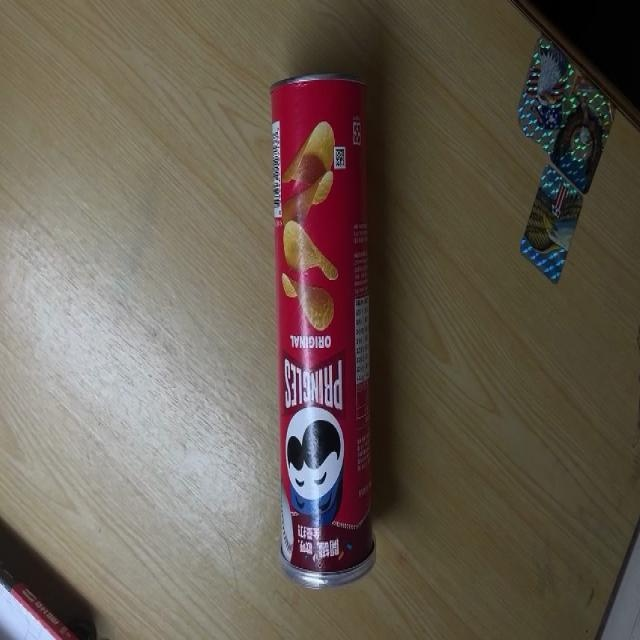Pringles: (270, 74, 376, 588)
